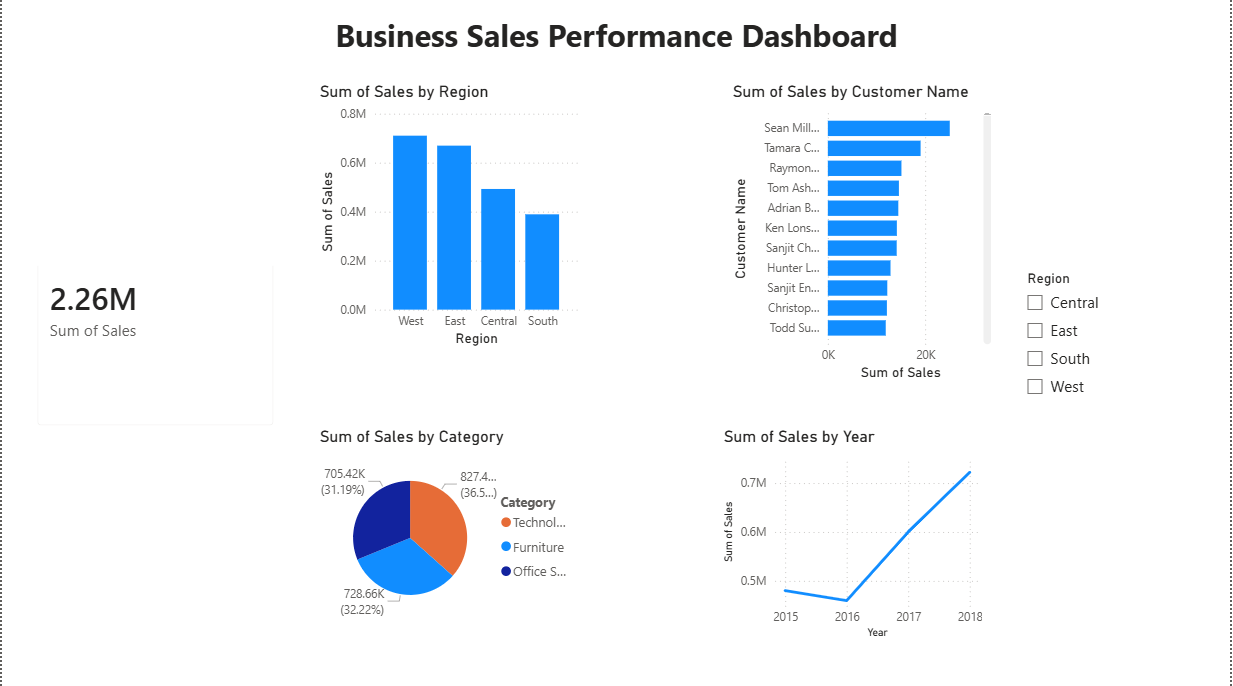

This screenshot's page, from the dashboard's own definition file:
{"tool":"powerbi","page":{"name":"Page 1","canvas":[1280,720],"ordinal":0},"visuals":[{"type":"cardVisual","fields":{"Data":["Sum(train.Sales)"]},"box":[19.5,183.8,280.1,280.1],"z":0},{"type":"clusteredColumnChart","fields":{"Category":["train.Region"],"Y":["Sum(train.Sales)"]},"box":[325.8,88.5,279.1,280.1],"z":1000},{"type":"pieChart","fields":{"Category":["train.Category"],"Y":["Sum(train.Sales)"]},"box":[325.8,448.4,279.1,212],"z":1001},{"type":"barChart","fields":{"Category":["train.Customer Name"],"Y":["Sum(train.Sales)"]},"box":[756.7,88.5,279.1,315.1],"z":1002},{"type":"lineChart","fields":{"Category":["train.Order Date.Variation.Date Hierarchy.Year","train.Order Date.Variation.Date Hierarchy.Quarter","train.Order Date.Variation.Date Hierarchy.Month","train.Order Date.Variation.Date Hierarchy.Day"],"Y":["Sum(train.Sales)"]},"box":[747,448.4,279.1,224.7],"z":1003},{"type":"textbox","box":[19,0,280,280],"z":1004},{"type":"textbox","box":[0,12.6,1280,58.4],"z":1005},{"type":"slicer","fields":{"Values":["train.Region"]},"box":[1055.3,280.1,224.7,173.1],"z":1006}]}

Visuals, with their boxes in screenshot pixels (x1, y1, x2, y2), scaled from the page's 1280x720 canvas onto the 1233x686 screenshot:
cardVisual - Sum(train.Sales): 19 175 289 442
clusteredColumnChart - train.Region x Sum(train.Sales): 314 84 583 351
pieChart - train.Category x Sum(train.Sales): 314 427 583 629
barChart - train.Customer Name x Sum(train.Sales): 729 84 998 385
lineChart - train.Order Date.Variation.Date Hierarchy.Year x train.Order Date.Variation.Date Hierarchy.Quarter: 720 427 988 641
textbox: 18 0 288 267
textbox: 0 12 1232 68
slicer - train.Region: 1017 267 1232 432
